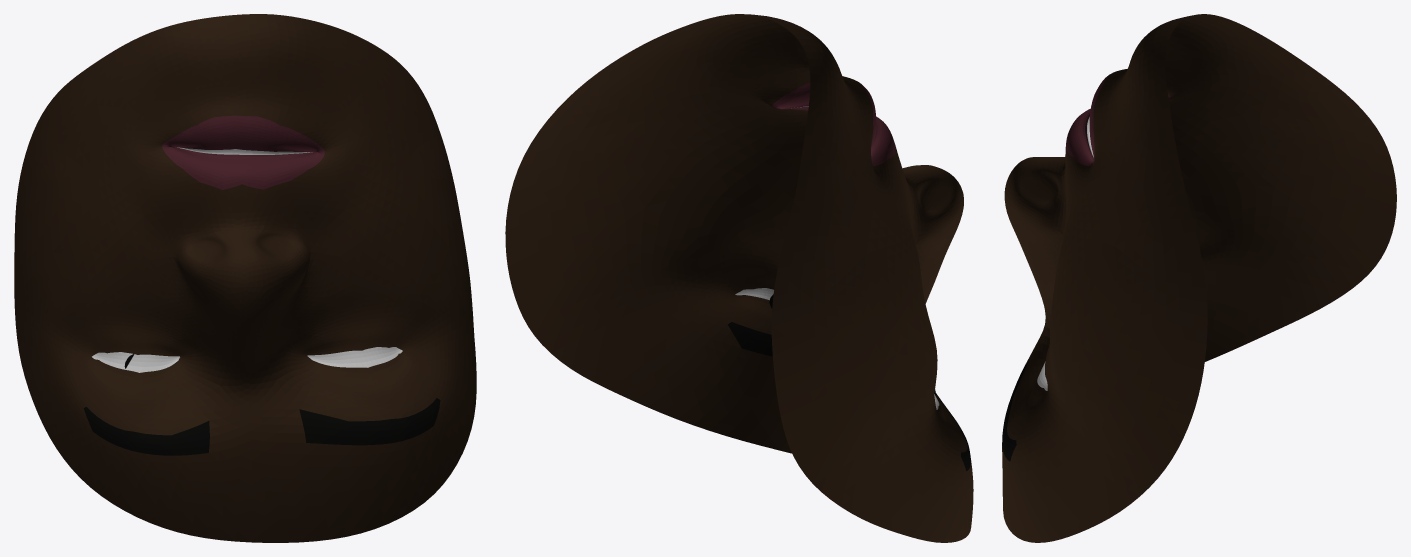
File: VID-20250515-WA0006_f_00529.obj
3 views of the same model, side by side, from view 1: azimuth 30°, elevation 25°; view 2: azimuth 150°, elevation 25°; view 3: azimuth 270°, elevation 25° (orthographic). The views are drawn at different scales.
Visible parts, largest first — view 1: face_mesh_subdivided; view 2: face_mesh_subdivided; view 3: face_mesh_subdivided.
Part boxes in pixels (x1,y1,x2,y2): face_mesh_subdivided: (14,14,476,542); face_mesh_subdivided: (505,14,973,542); face_mesh_subdivided: (1002,14,1396,542).
Size of the model in its own units: 0.5226 by 0.5911 by 0.4525.
